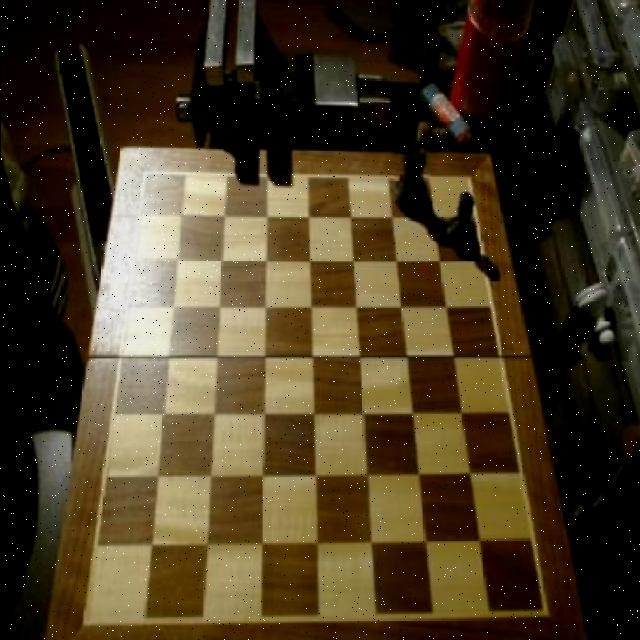black-knight: (447, 191, 477, 256)
black-queen: (395, 142, 432, 214)
